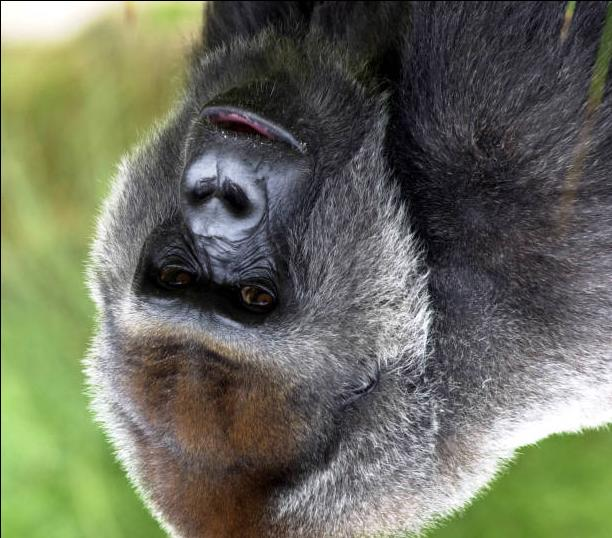gorille_Autres: (48, 0, 612, 538)
